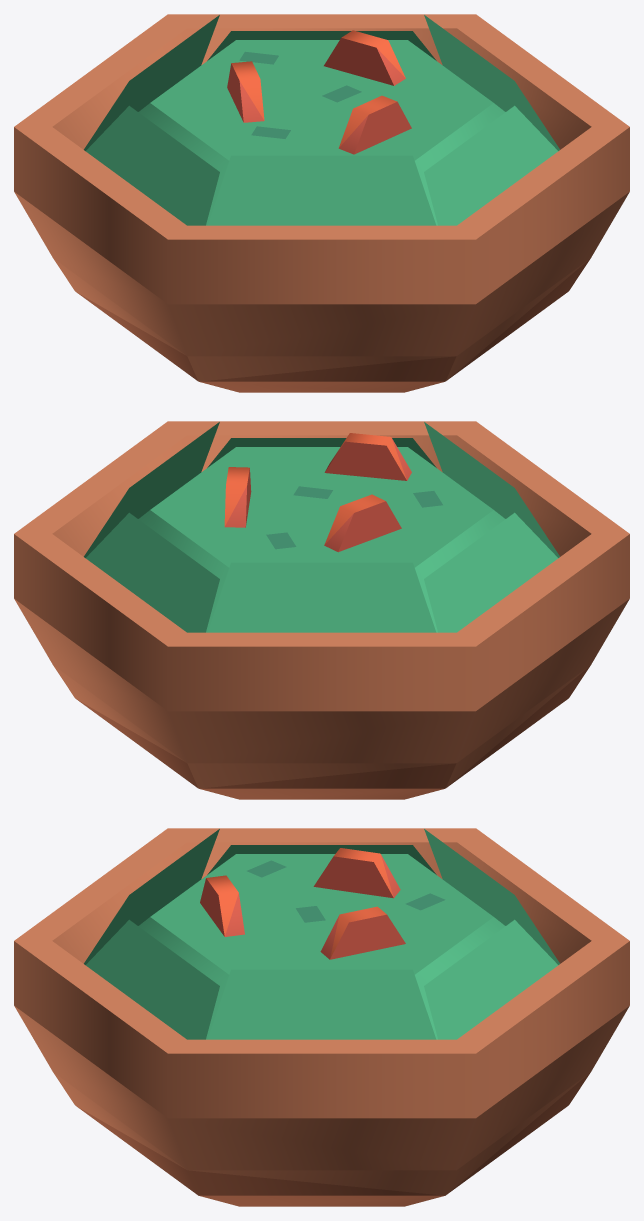
File: salada.glb
3 views of the same model, one above another, from view 1: azimuth 30°, elevation 25°; view 2: azimuth 150°, elevation 25°; view 3: azimuth 270°, elevation 25° (orthographic).
Parts seen in each view (by area): view 1: salad; view 2: salad; view 3: salad.
Boxes of the visible parts, <box> form: salad: <box>14,14,629,392</box>; salad: <box>14,421,629,799</box>; salad: <box>14,828,629,1206</box>.
Bounding box in the file's own units: 0.5022 × 0.2734 × 0.5798.
